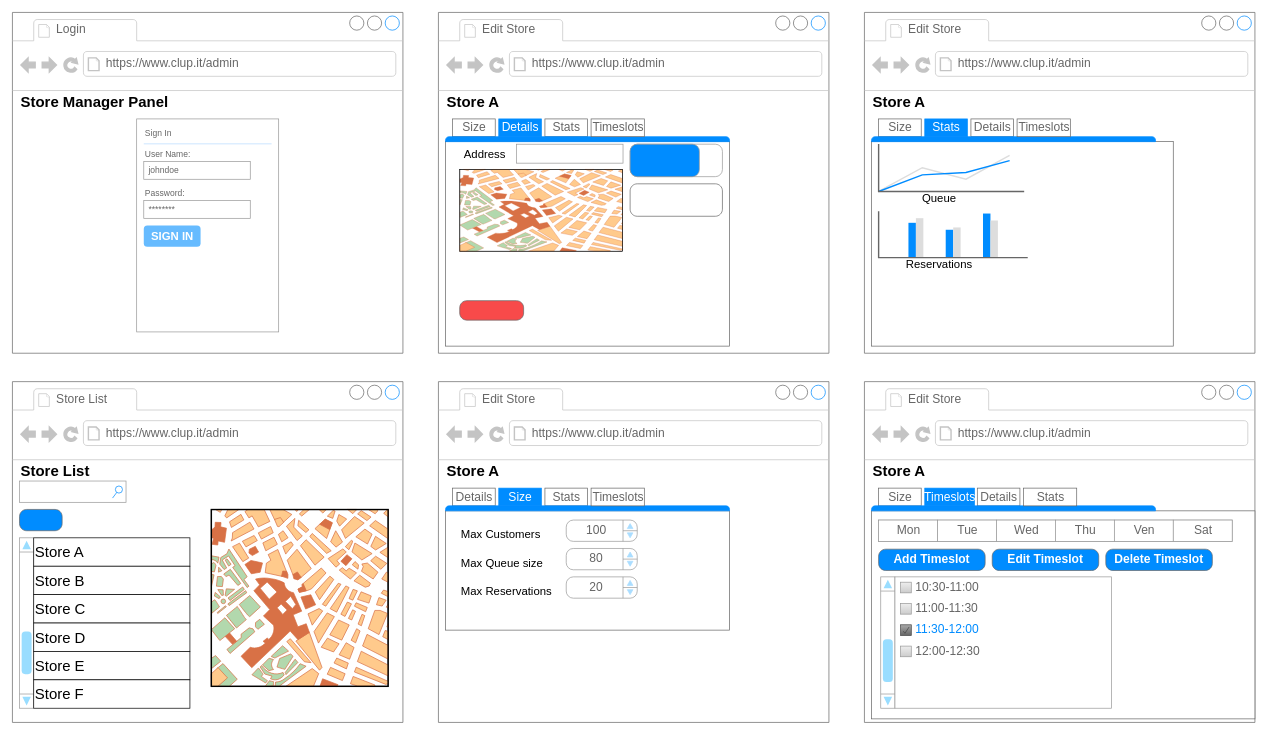
The diagram is 1267 pixels wide and 735 high, and some of its shapes have lost their labels. The shapes that lost their labels are listed below. From the top down, each one's centre as x and y in pixels, then its label:
At pixel 569 153: "Corso Roma 1".
At pixel 675 160: "Open".
At pixel 675 199: "Change opening time".
At pixel 491 310: "Delete".
At pixel 72 491: "Search".
At pixel 40 520: "Add".
